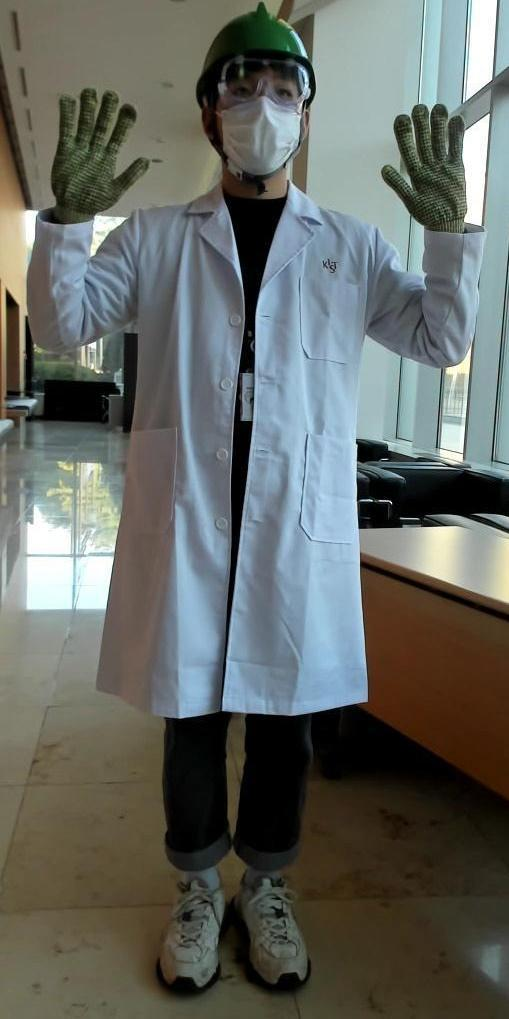lab_coat: (124, 202, 380, 710)
